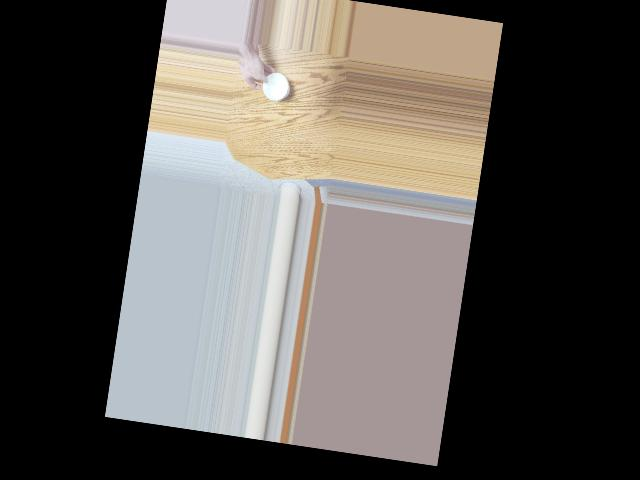cotage: (255, 68, 292, 108)
